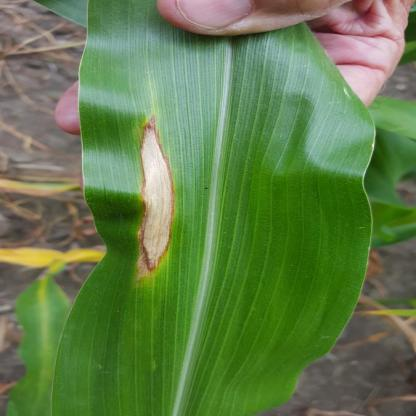Corn leaf blight: (72, 37, 352, 412)
